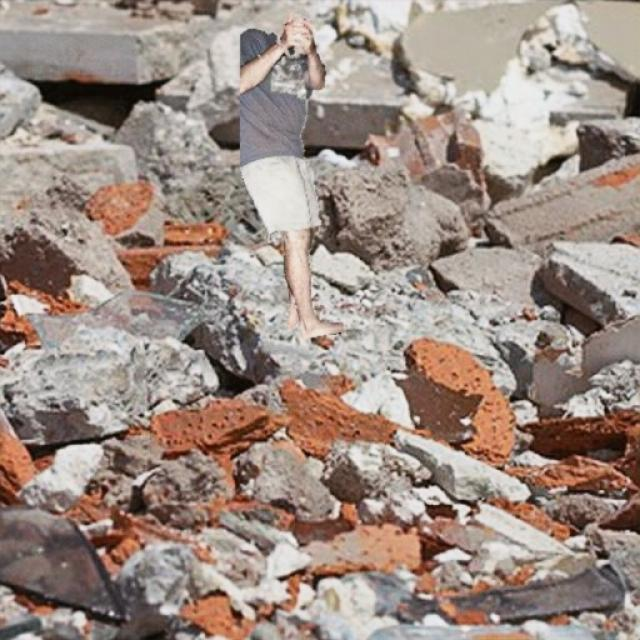Person in Rubble: (240, 14, 342, 338)
